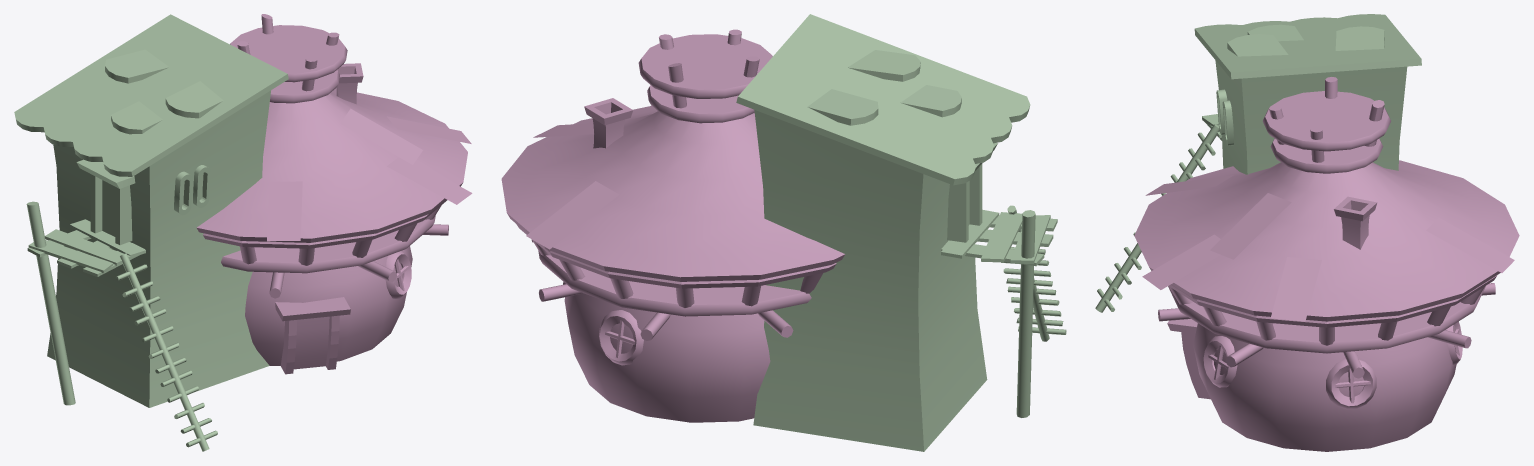
The model's file is House5.fbx.
3 renders of one model, left to right at view 1: azimuth 30°, elevation 25°; view 2: azimuth 150°, elevation 25°; view 3: azimuth 270°, elevation 25°, orthographic. The views are drawn at different scales.
Parts seen in each view (by area): view 1: Squared_House1, Rond_House3; view 2: Squared_House1, Rond_House3; view 3: Rond_House3, Squared_House1.
Part boxes in pixels (x1,y1,x2,y2): Squared_House1: (14,14,288,451); Rond_House3: (196,14,472,374); Squared_House1: (736,14,1066,451); Rond_House3: (501,29,845,422); Rond_House3: (1134,77,1519,451); Squared_House1: (1095,14,1421,312).
Bounding box in the file's own units: 12.64 × 10.05 × 8.2.
